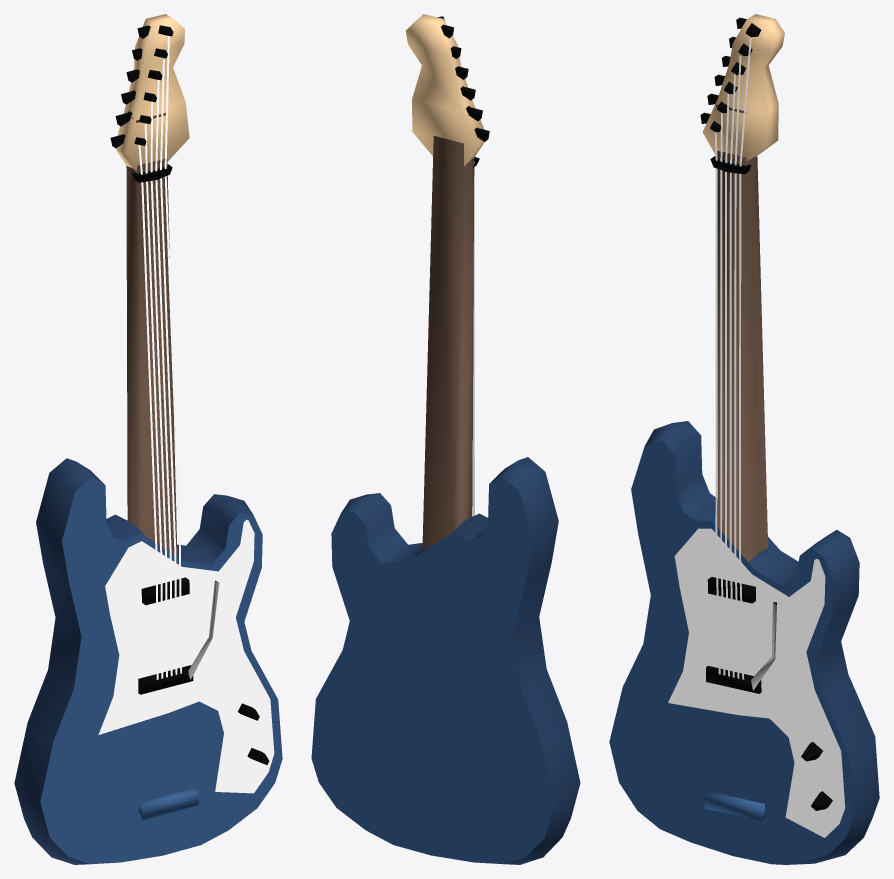
The model's file is GuitarElectricBlue.glb.
3 views of the same model, side by side, from view 1: azimuth 30°, elevation 25°; view 2: azimuth 150°, elevation 25°; view 3: azimuth 330°, elevation 25° (orthographic).
Visible parts, largest first — view 1: GuitarElectricBlue; view 2: GuitarElectricBlue; view 3: GuitarElectricBlue.
Boxes of the visible parts, <box> form: GuitarElectricBlue: <box>14,14,282,864</box>; GuitarElectricBlue: <box>311,14,580,864</box>; GuitarElectricBlue: <box>609,14,879,864</box>.
Size of the model in its own units: 0.4159 by 1.31 by 0.1052.
1 material, 1 textured.
